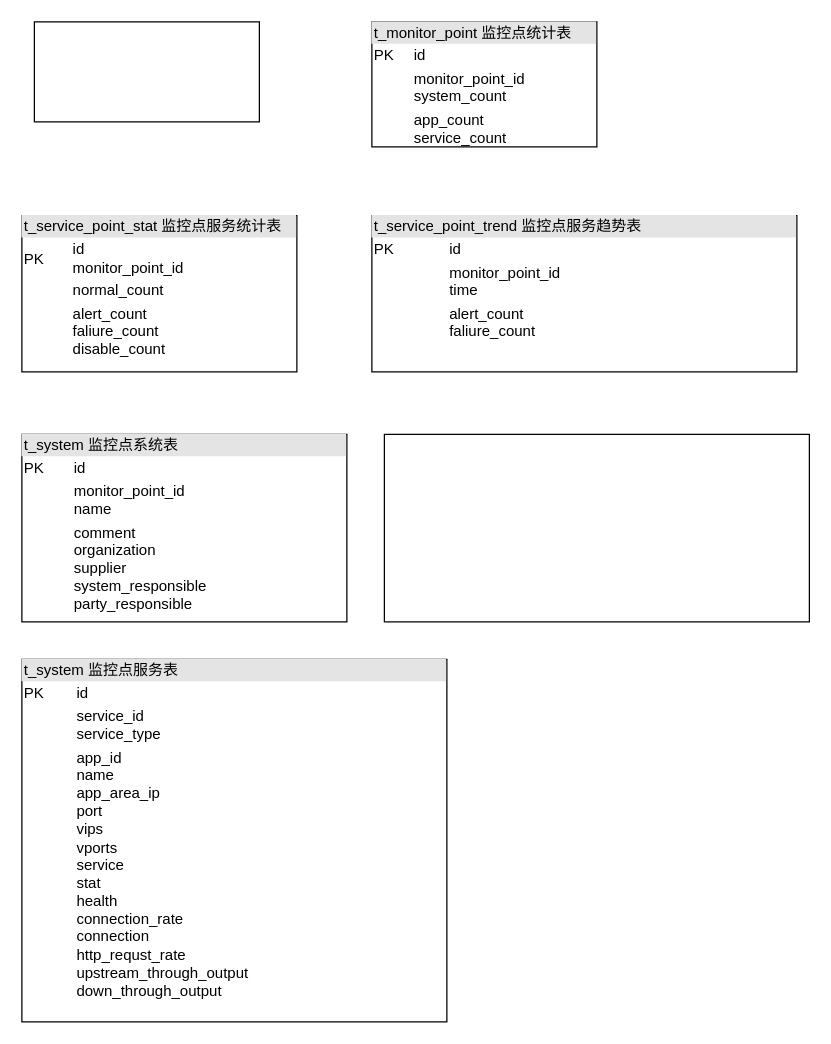
This 831x1044 diagram has some shape labels left out. Here are the shapes that lost their labels. From the top down, the centre of each, then its label:
At point (146, 71): "t_monitor_point 监控点表 PK monitor_point_id name type (省级、市级、特派)".
At point (596, 527): "t_system 监控点应用表 PK id system_id name comment apply responsible".
